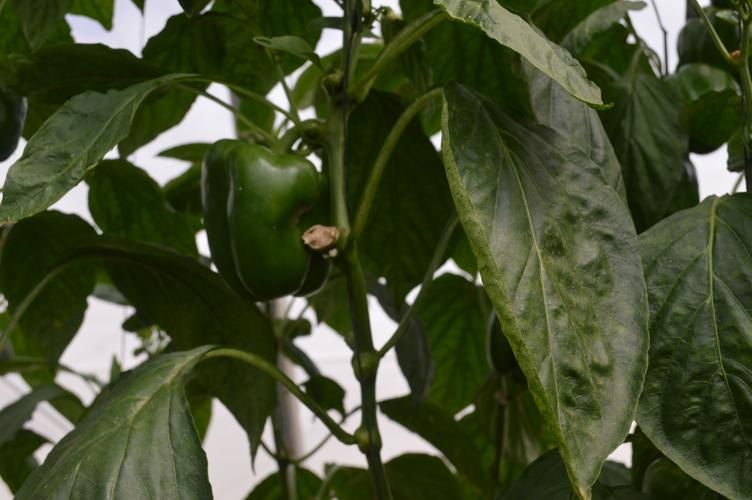BellPepper: (199, 139, 331, 299)
